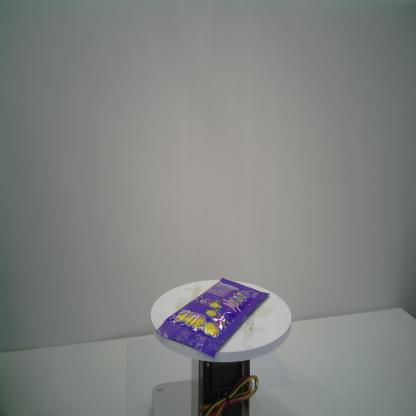Candy: (154, 277, 270, 361)
